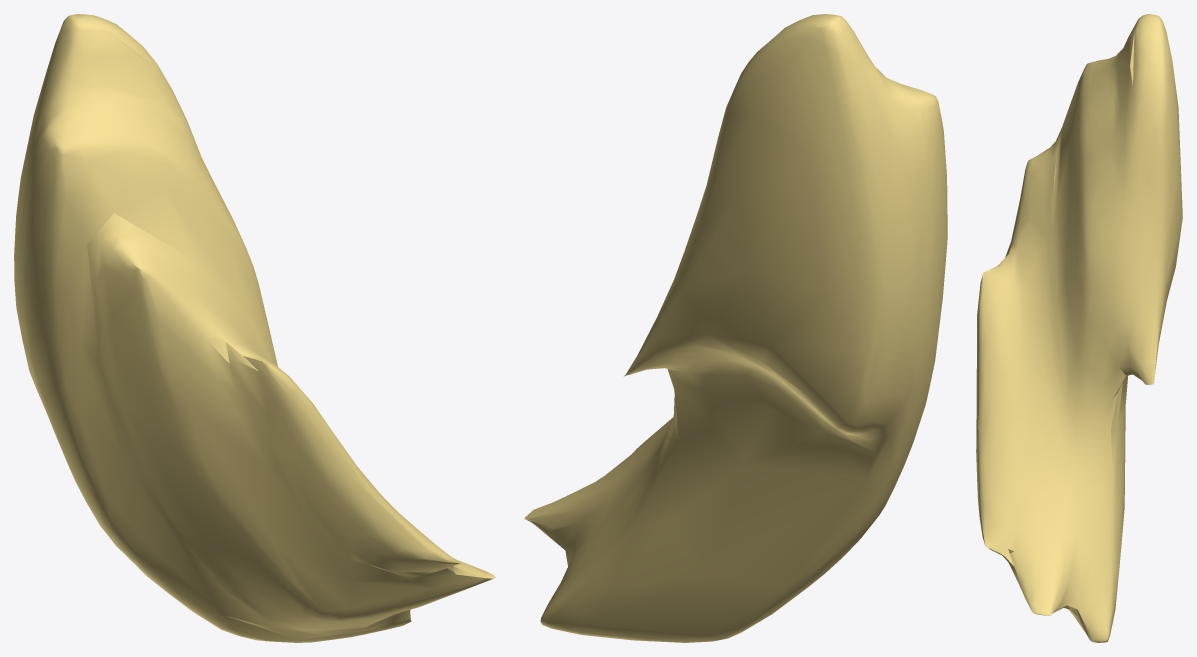
Rendered from fma73077_fj7558m.glb.
The picture shows the model from 3 angles, left to right: view 1: azimuth 30°, elevation 25°; view 2: azimuth 150°, elevation 25°; view 3: azimuth 270°, elevation 25°; orthographic projection. The views are drawn at different scales.
Parts seen in each view (by area): view 1: FMA73077_FJ7558M; view 2: FMA73077_FJ7558M; view 3: FMA73077_FJ7558M.
Part boxes in pixels (left/top/right/bottom): FMA73077_FJ7558M: left=14, top=14, right=495, bottom=642; FMA73077_FJ7558M: left=524, top=14, right=947, bottom=642; FMA73077_FJ7558M: left=976, top=14, right=1182, bottom=642.
Size of the model in its own units: 0.00946 by 0.0141 by 0.00512.
